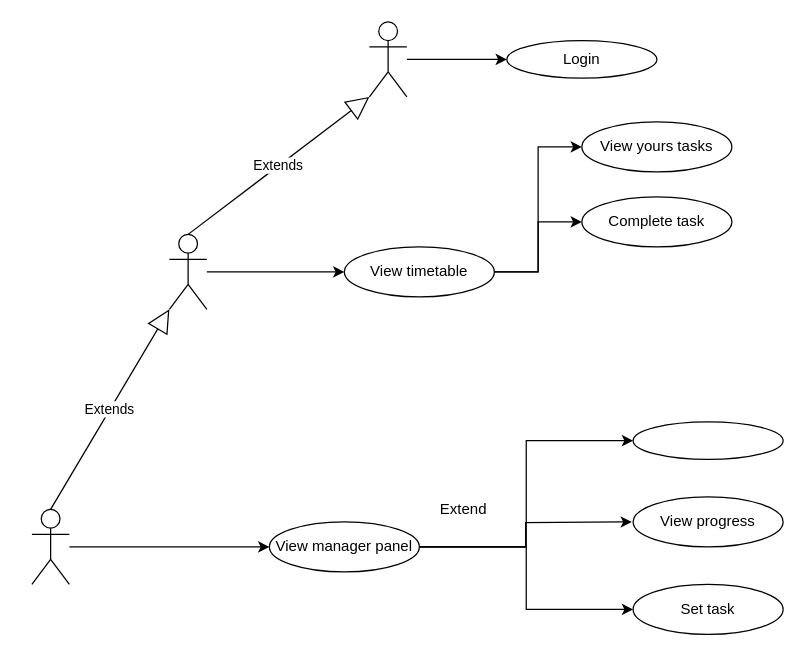
Some shapes in this 805 by 656 pixel diagram are drawn without their labels. The shapes that lost their labels are listed below. From the top down, each one's box as (x1, y1, x2, y2) in pixels, then its label:
(368, 21, 407, 97): Guest
(168, 233, 207, 309): Employee
(632, 421, 783, 459): Create task
(31, 508, 69, 584): Manager
